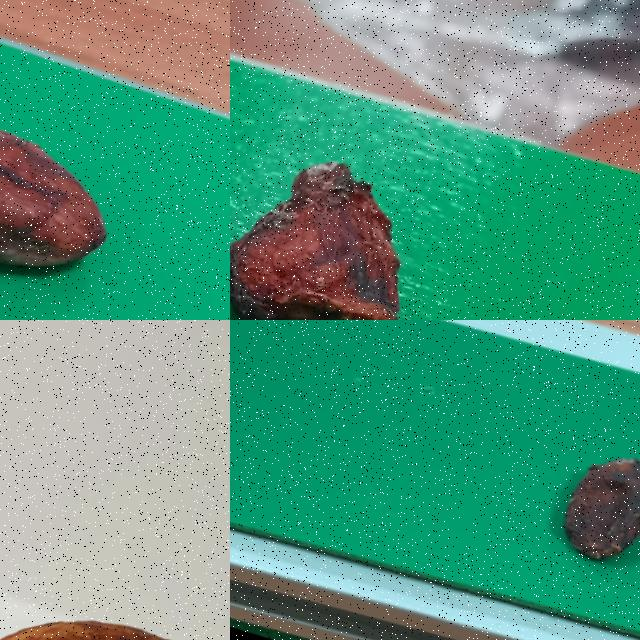Fine_cocoabeans: (0, 61, 224, 319), (0, 550, 229, 639)
Flat_cocoabeans: (230, 100, 517, 319), (419, 376, 639, 620)
